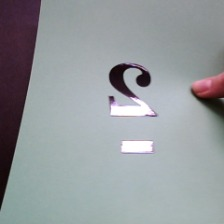green2: (103, 57, 168, 159)
